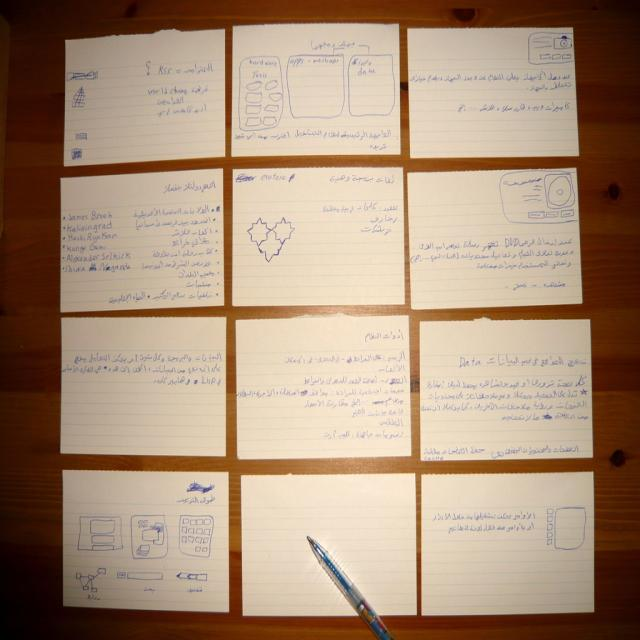pen: (307, 536, 393, 638)
